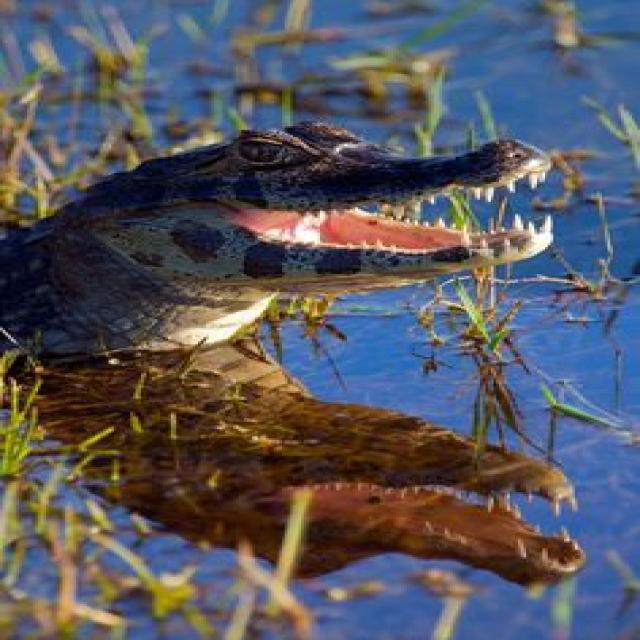Carnivorous: (0, 124, 553, 357)
